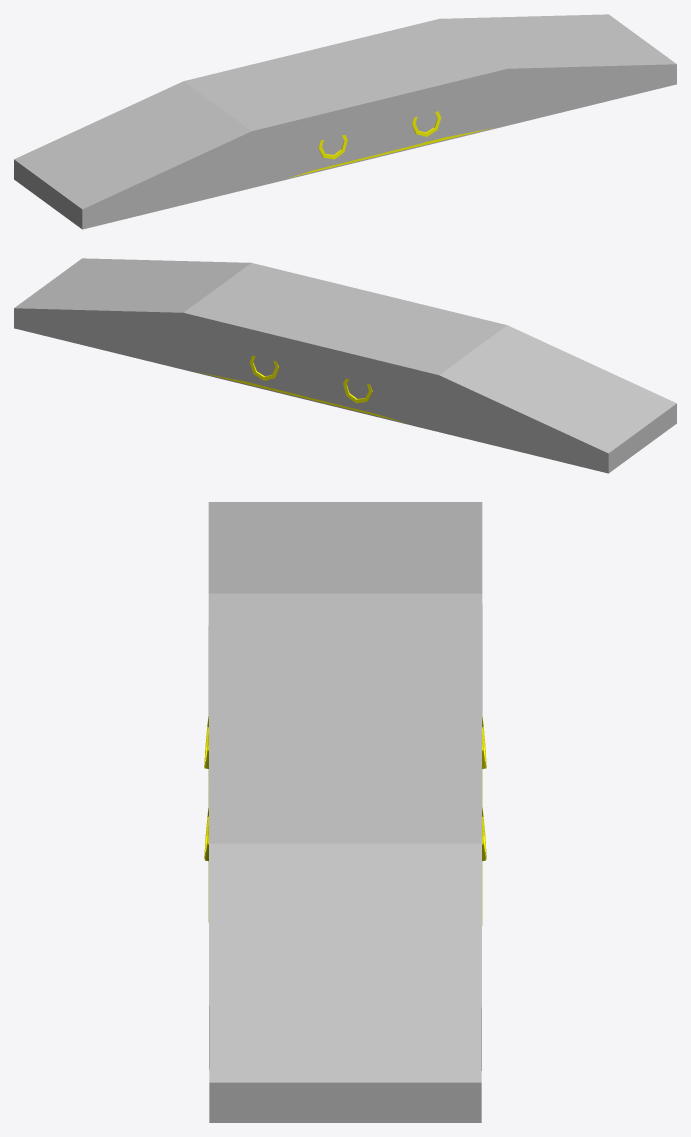
File: sm_hana_pgs_guidance_display.glb
3 renders of one model, top to bottom at view 1: azimuth 30°, elevation 25°; view 2: azimuth 150°, elevation 25°; view 3: azimuth 270°, elevation 25°, orthographic. The views are drawn at different scales.
Parts seen in each view (by area): view 1: sm_color_common, sm_hana_pgs_guidance_display; view 2: sm_color_common, sm_hana_pgs_guidance_display; view 3: sm_color_common, sm_hana_pgs_guidance_display.
Part boxes in pixels (left/top/right/bottom): sm_color_common: left=14, top=14, right=676, bottom=229; sm_hana_pgs_guidance_display: left=289, top=111, right=494, bottom=177; sm_color_common: left=14, top=258, right=676, bottom=473; sm_hana_pgs_guidance_display: left=199, top=355, right=405, bottom=422; sm_color_common: left=208, top=502, right=482, bottom=1122; sm_hana_pgs_guidance_display: left=204, top=714, right=486, bottom=925.
Bounding box in the file's own units: 2.68 × 0.2451 × 0.5503.
2 materials, 1 textured.
